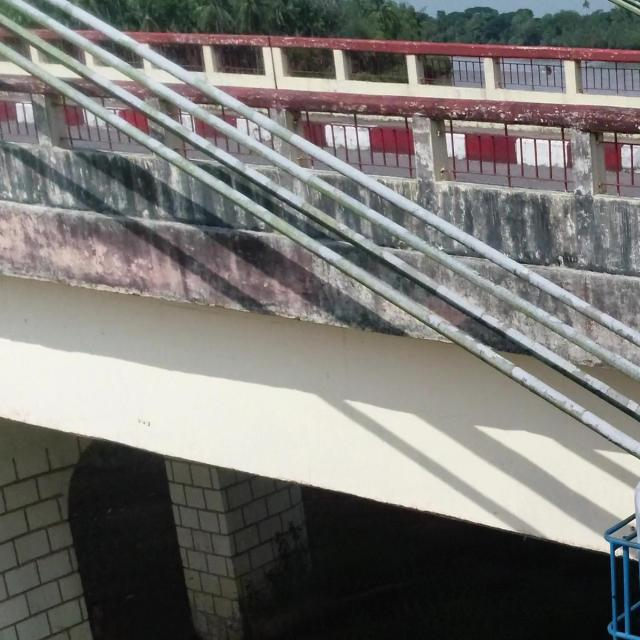crack: (437, 320, 442, 328), (605, 387, 610, 394), (513, 268, 517, 274)
